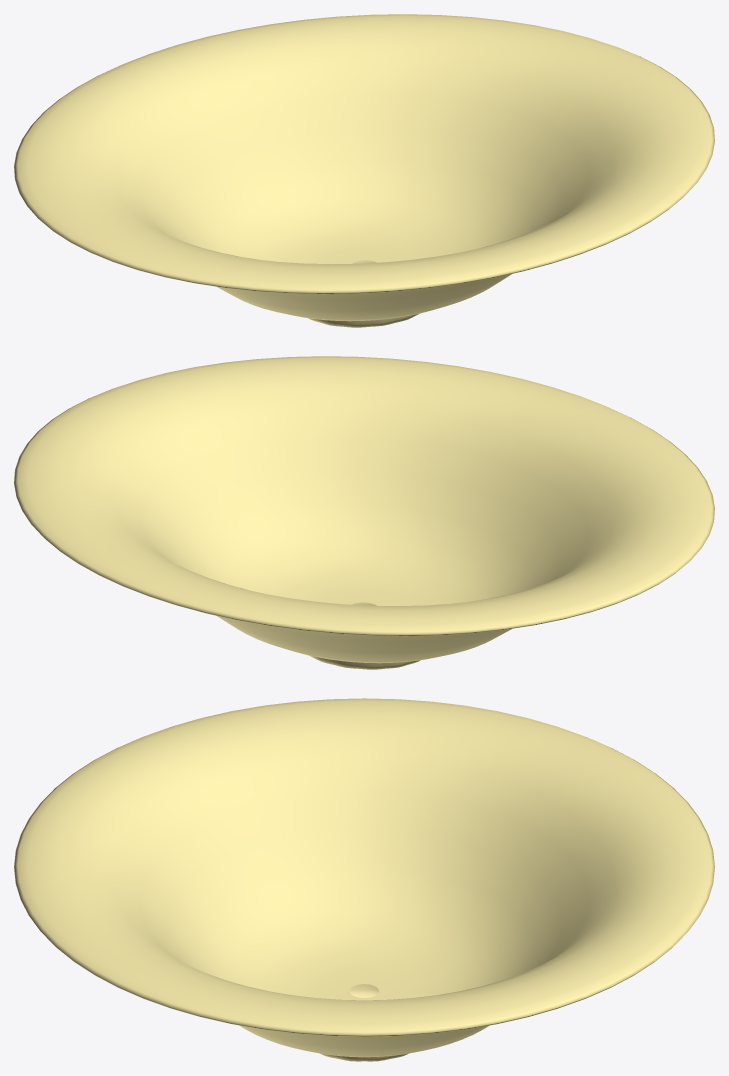
The model's file is plate.FBX.
The picture shows the model from 3 angles, top to bottom: view 1: azimuth 30°, elevation 25°; view 2: azimuth 150°, elevation 25°; view 3: azimuth 270°, elevation 25°; orthographic projection. The views are drawn at different scales.
Parts seen in each view (by area): view 1: Line001; view 2: Line001; view 3: Line001.
Boxes of the visible parts, <box> form: Line001: <box>14,14,714,327</box>; Line001: <box>14,356,714,669</box>; Line001: <box>14,698,714,1061</box>.
Size of the model in its own units: 42.09 by 10 by 37.05.
